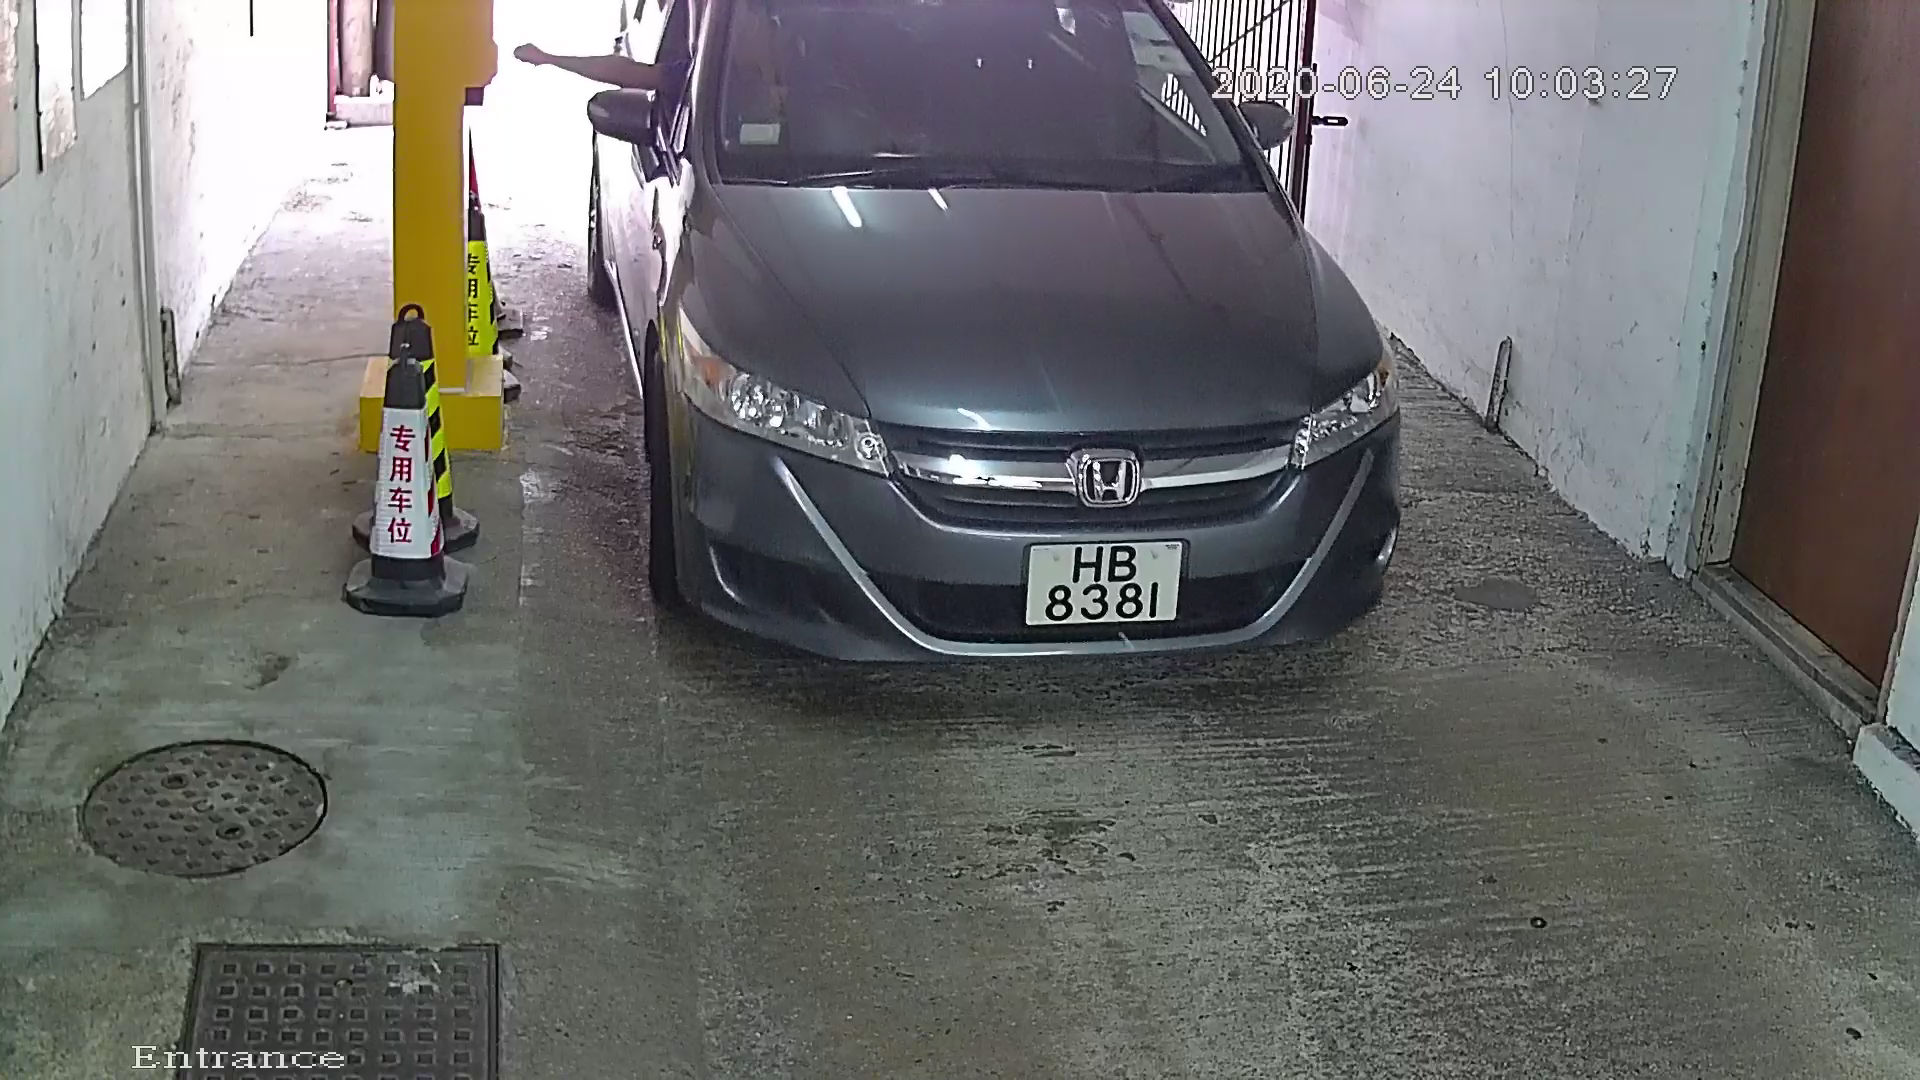Car: (572, 1, 1416, 734)
License Plate: (1005, 520, 1202, 637)
